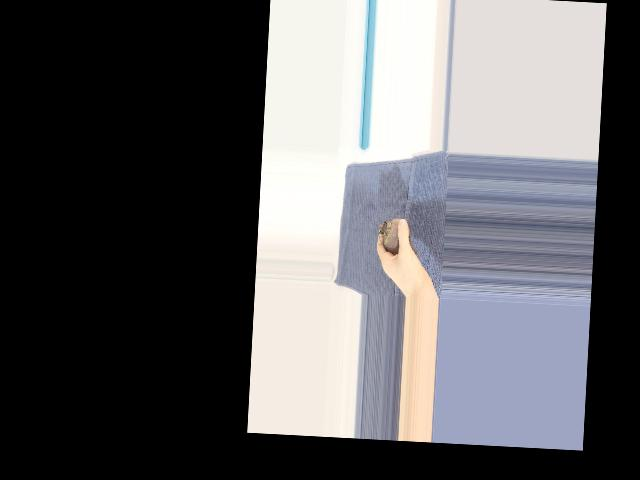beet: (378, 216, 423, 255)
